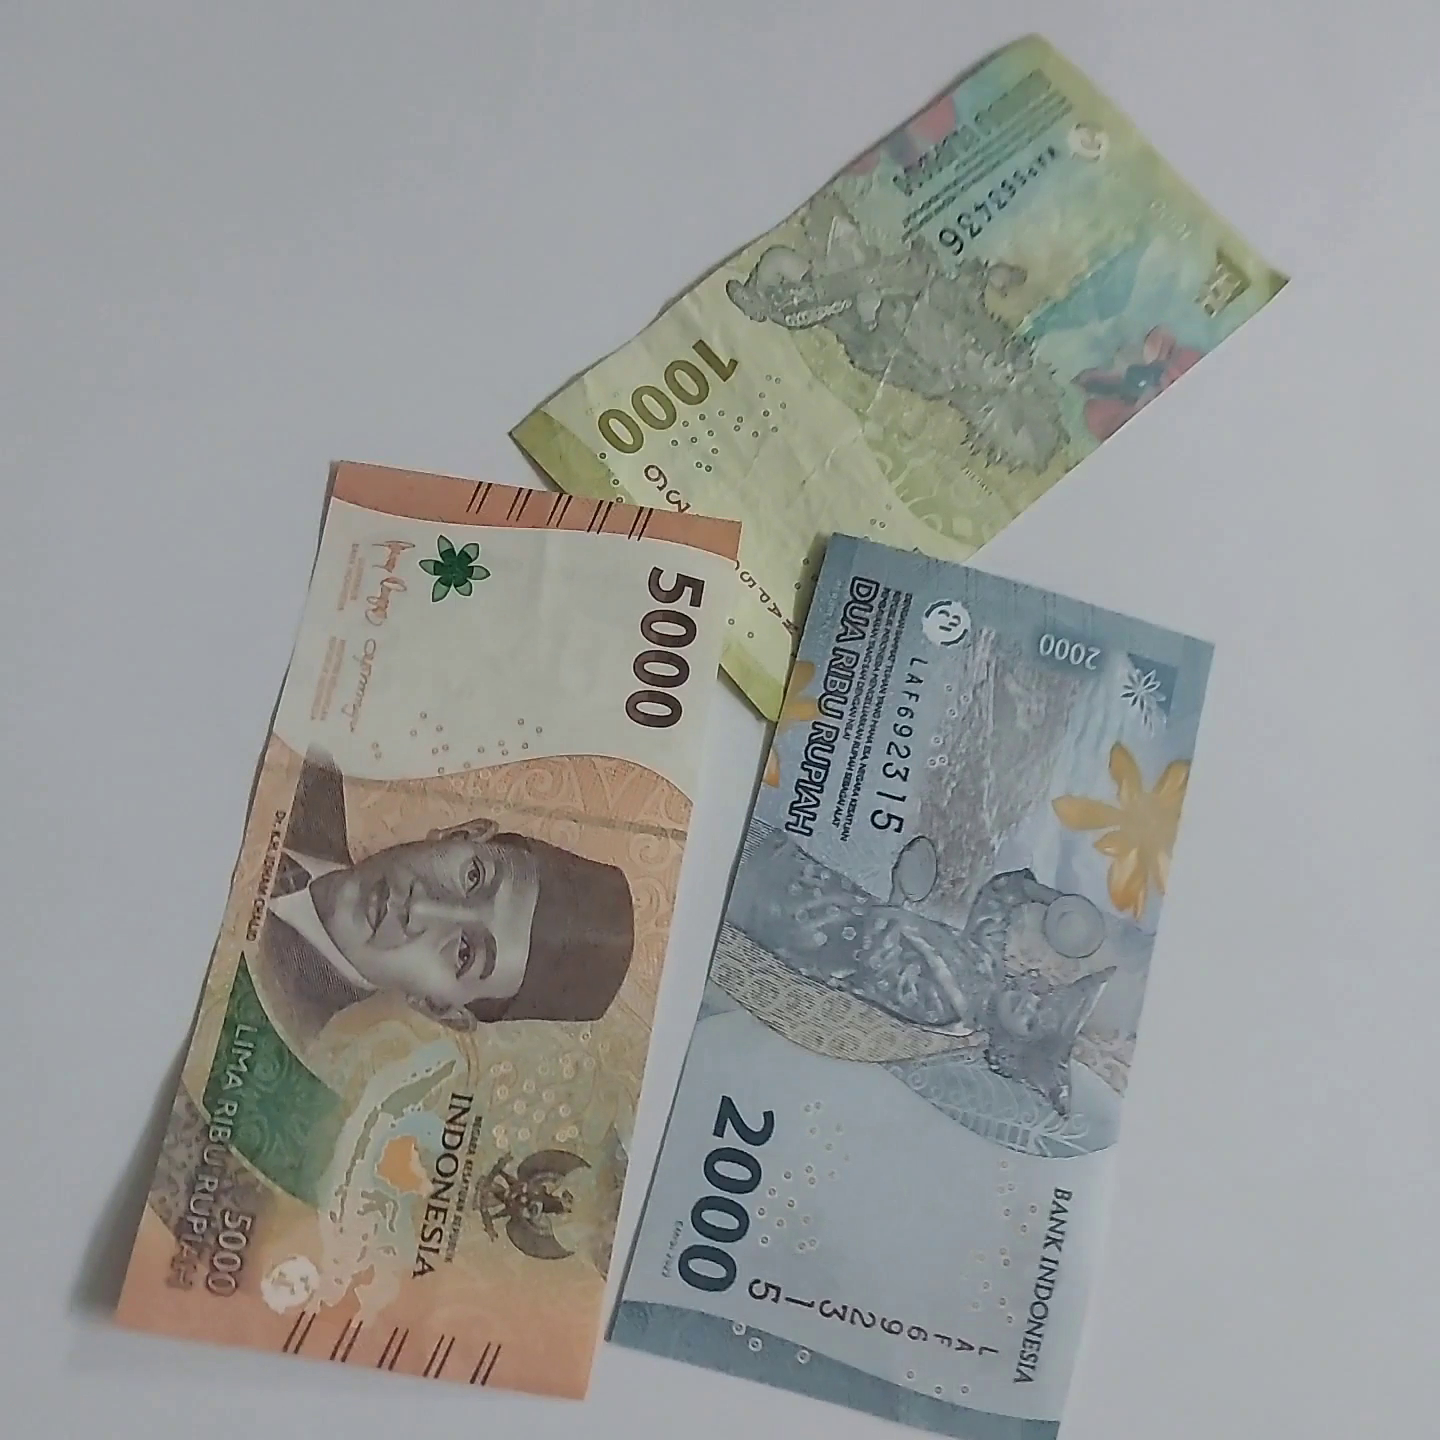1k: (521, 435, 1213, 785)
2k: (807, 538, 1236, 1345)
5k: (293, 452, 771, 1336)
